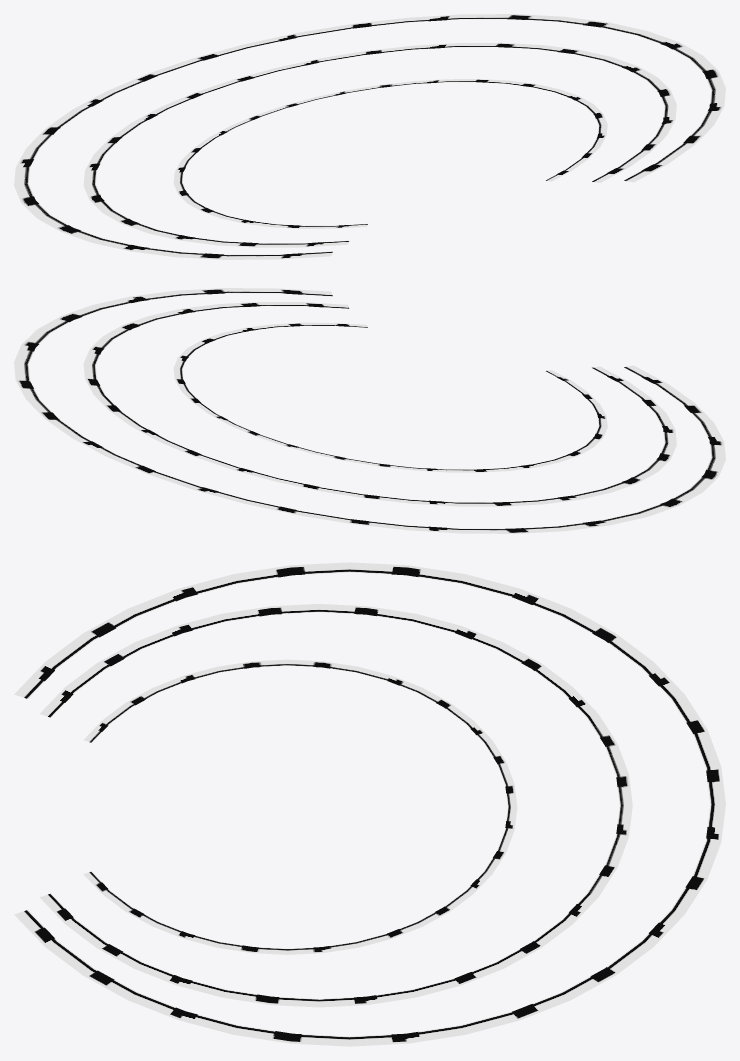
File: magnetLines.fbx
3 views of the same model, one above another, from view 1: azimuth 30°, elevation 25°; view 2: azimuth 150°, elevation 25°; view 3: azimuth 270°, elevation 25° (orthographic). The views are drawn at different scales.
Visible parts, largest first — view 1: pPipe1, pPipe2, pPipe3; view 2: pPipe1, pPipe2, pPipe3; view 3: pPipe1, pPipe2, pPipe3.
Part boxes in pixels (x1,y1,x2,y2): pPipe1: (14, 14, 725, 259); pPipe2: (83, 42, 676, 247); pPipe3: (173, 79, 607, 228); pPipe1: (14, 288, 725, 533); pPipe2: (83, 302, 676, 506); pPipe3: (173, 322, 607, 472); pPipe1: (14, 562, 725, 1046); pPipe2: (40, 604, 632, 1007); pPipe3: (83, 659, 517, 954).
Bounding box in the file's own units: 13.68 × 0.0363 × 8.5.
Materials: 1 (1 with a texture image).
